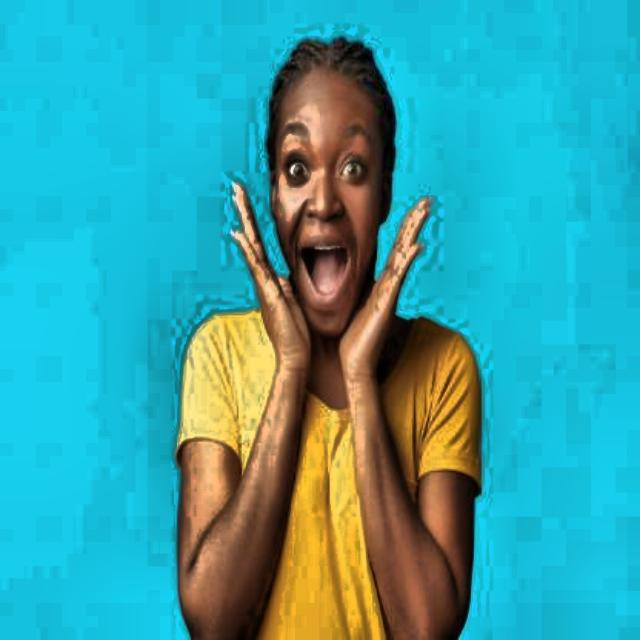surprised: (222, 33, 446, 337)
